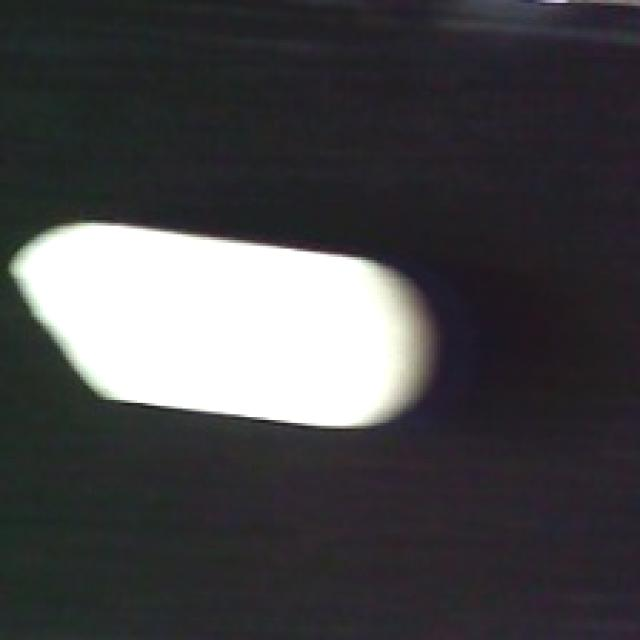defected: (3, 223, 437, 431)
